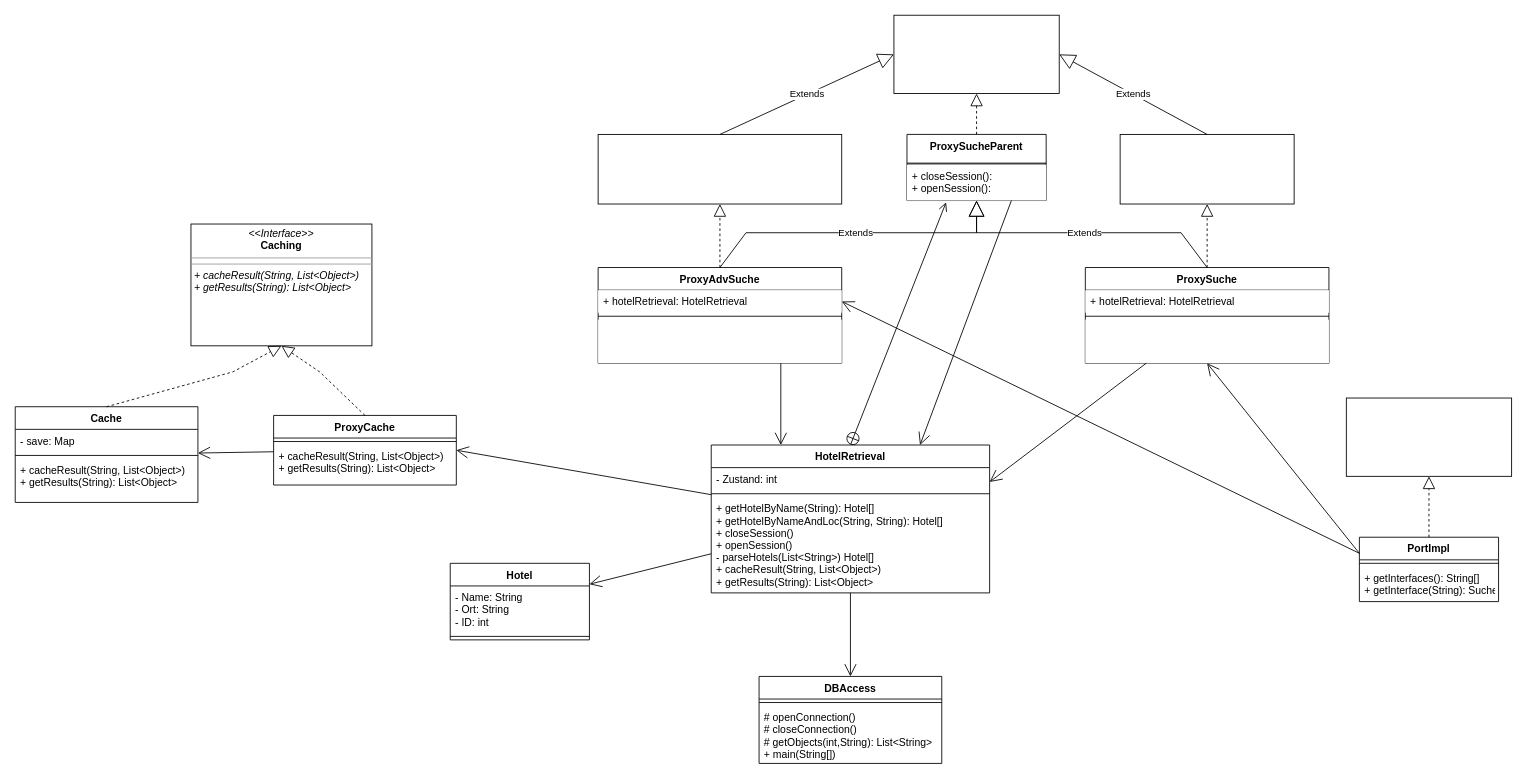
This 1527x781 diagram has some shape labels left out. The centre of each missing label's shape, as x and y in pixels:
"+ getHotelByName(String): Hotel[] - logging(String)" goes at [1206,341].
"+ getHotelByNameAndLoc(String, String): Hotel[] - logging(String, String)" goes at [719,341].
"<<Interface>> AdvHotelSuche + getHotelByNameAndLoc(String, String): Hotel[]" goes at [719,169].
"<<Interface>> Hotelsuche + getHotelByName(String): Hotel[]" goes at [1206,169].
"<<Interface>> Port + getInterfaces(): String[] + getInterface(String): Suche" goes at [1428,436].
"<<Interface>> Suche + closeSession(): + openSession():" goes at [976,54].
